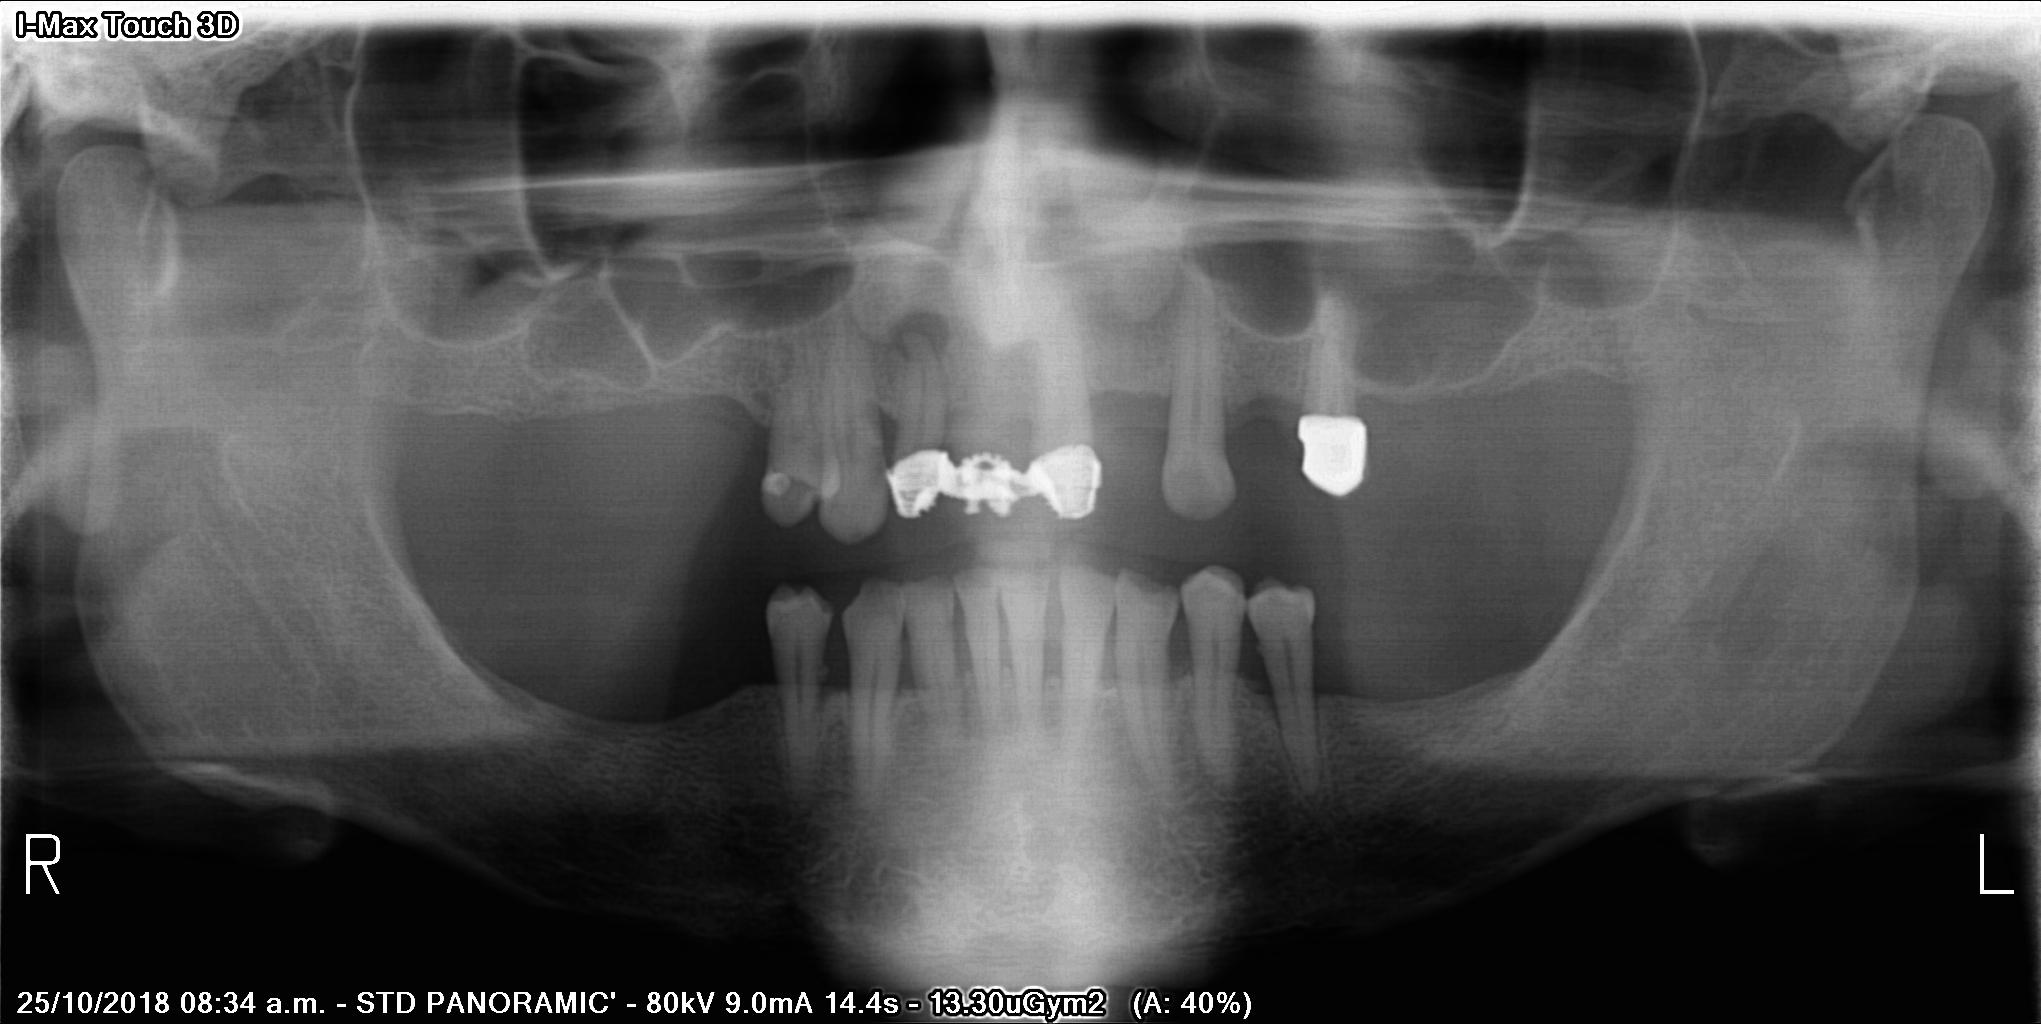Çürük: (1297, 406, 1375, 485), (1033, 435, 1101, 516), (887, 448, 956, 524), (760, 474, 786, 494)
Çürük Bölgesi: (786, 468, 815, 500)
